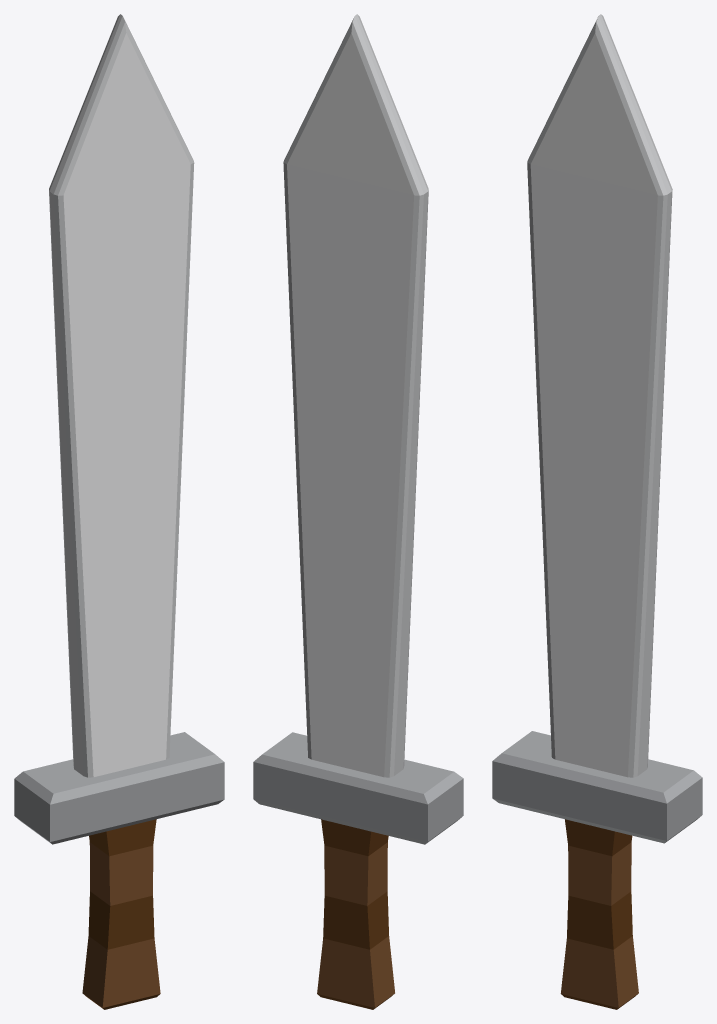
Rendered from Sword.fbx.
3 renders of one model, left to right at view 1: azimuth 30°, elevation 25°; view 2: azimuth 150°, elevation 25°; view 3: azimuth 330°, elevation 25°, orthographic.
Parts seen in each view (by area): view 1: Sword; view 2: Sword; view 3: Sword.
Boxes of the visible parts, x1,y1,x2,y2 form: Sword: [14, 14, 224, 1009]; Sword: [253, 14, 463, 1009]; Sword: [492, 14, 702, 1009].
Bounding box in the file's own units: 1.12 × 6.03 × 0.3974.
Materials: 1 (1 with a texture image).
